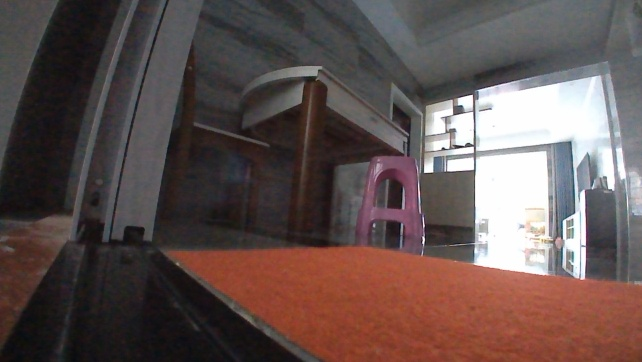blanket: (154, 240, 641, 361)
dining_table: (163, 28, 433, 245)
